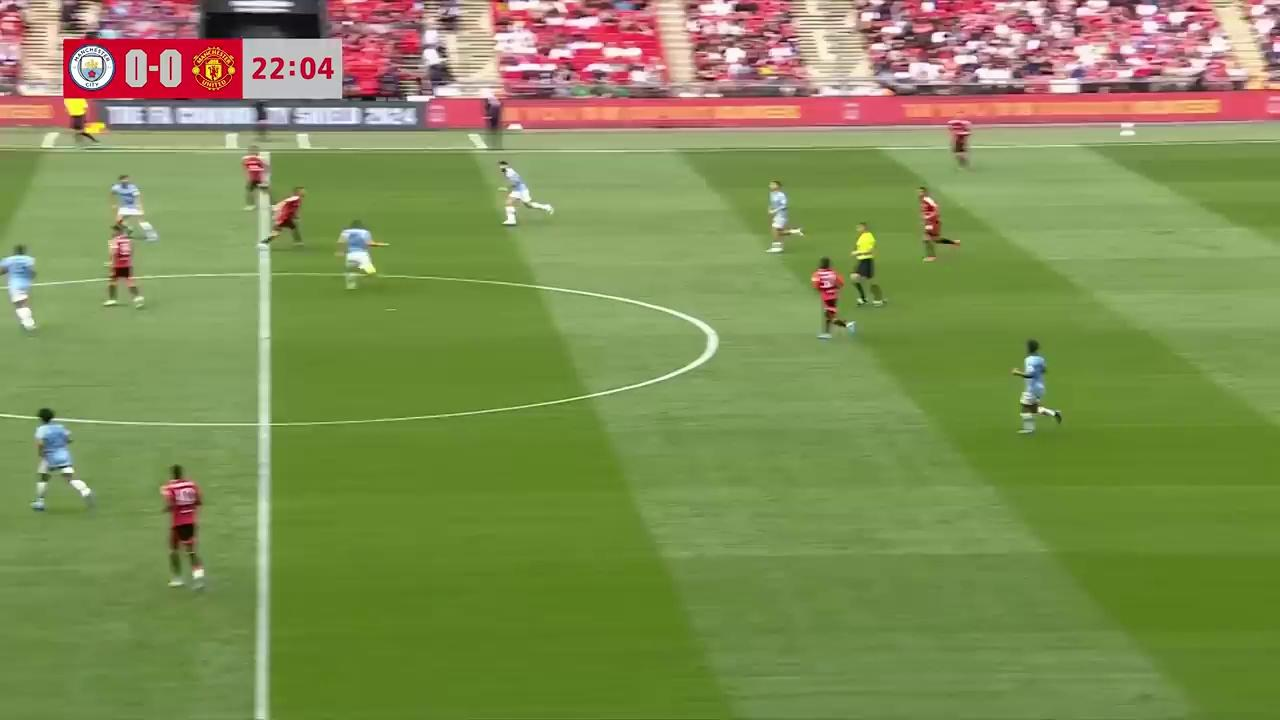player: (30, 407, 94, 512), (158, 463, 207, 590), (1011, 338, 1064, 433), (496, 159, 554, 226), (811, 255, 853, 341), (334, 218, 384, 288), (103, 223, 144, 308), (0, 243, 38, 333), (918, 187, 959, 261), (110, 173, 155, 239), (766, 180, 804, 253), (267, 187, 305, 247), (241, 148, 271, 209), (947, 119, 972, 170)
referee: (849, 221, 887, 306), (69, 96, 107, 147)
